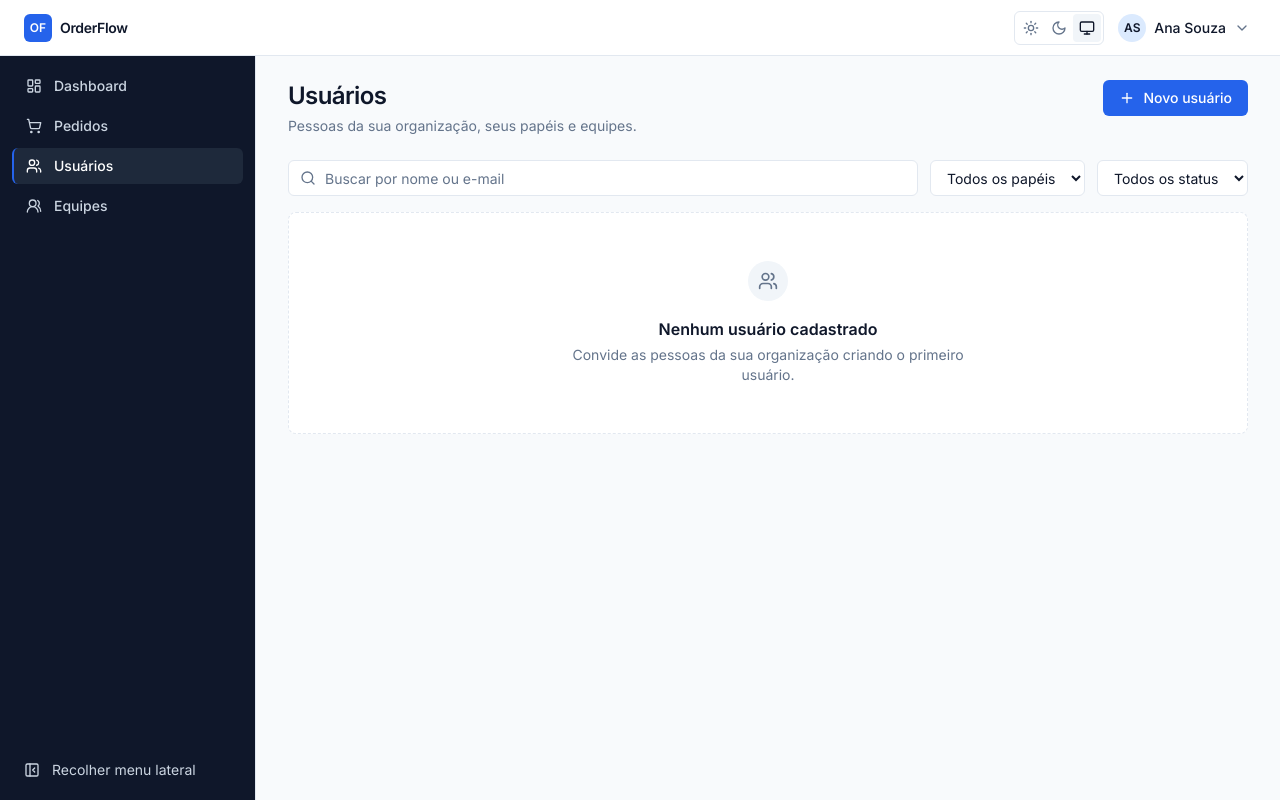
Test: UsersPage › shows an error about the hidden password field at the top of the invitation form
This screenshot has width=1280, height=800.
Click the button "Novo usuário" at (1176, 98), box [1103, 80, 1248, 116]
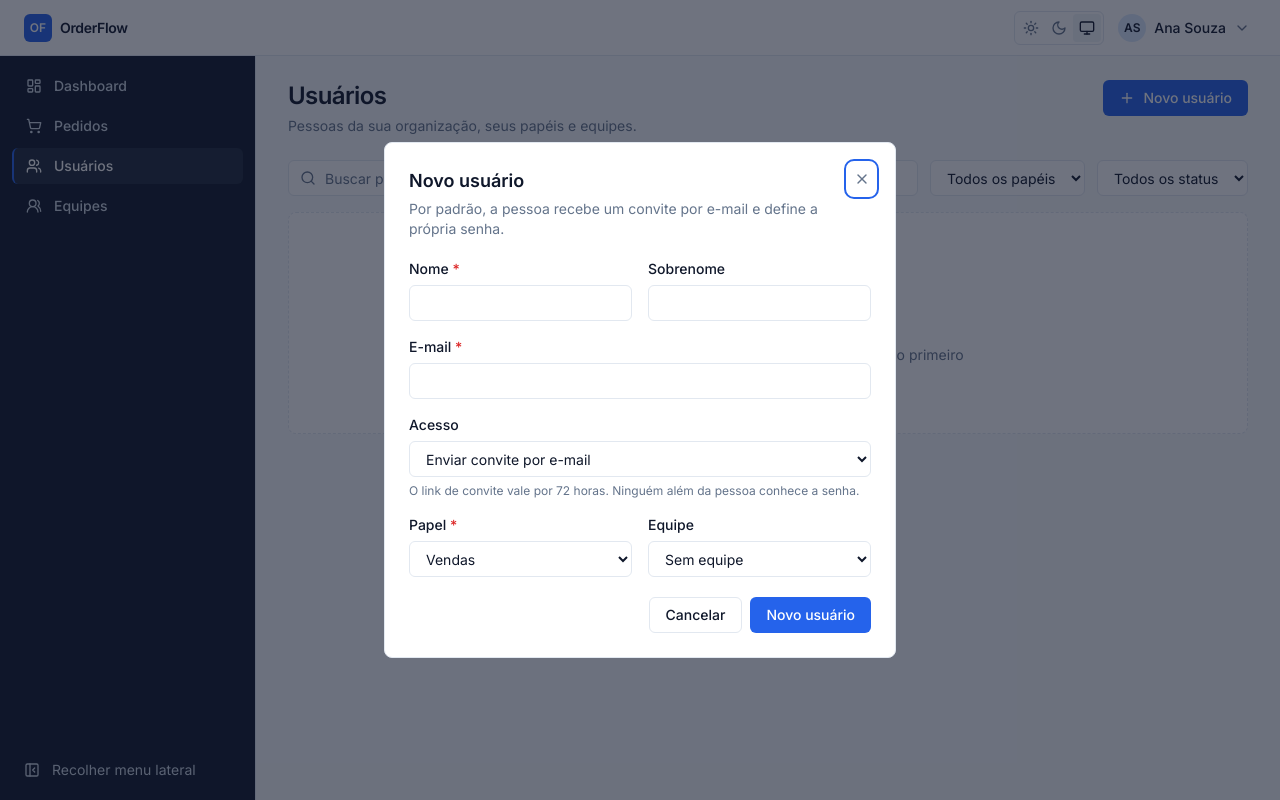
Type "Carla" into the field labelled "Nome *" at (520, 303), box [409, 285, 632, 321]
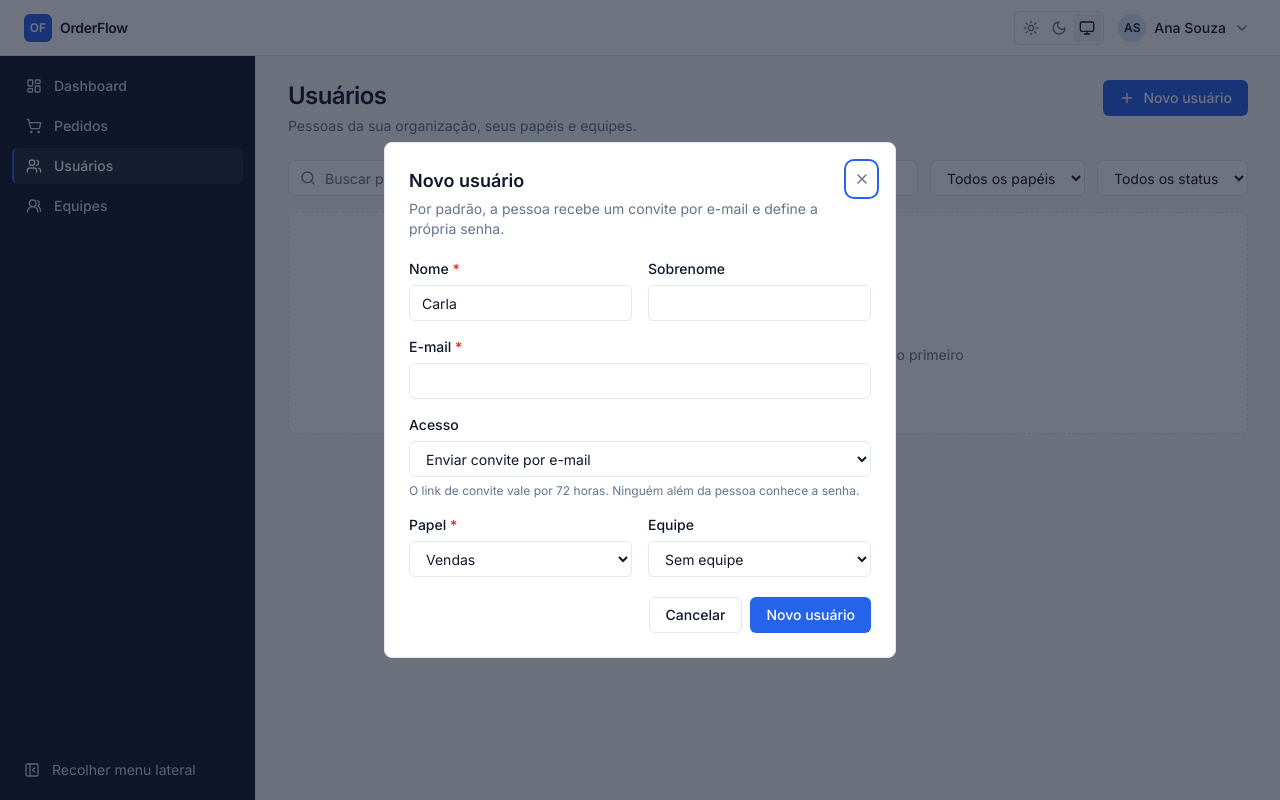
Type "carla@acme.com" into the field labelled "E-mail *" at (640, 381), box [409, 363, 871, 399]
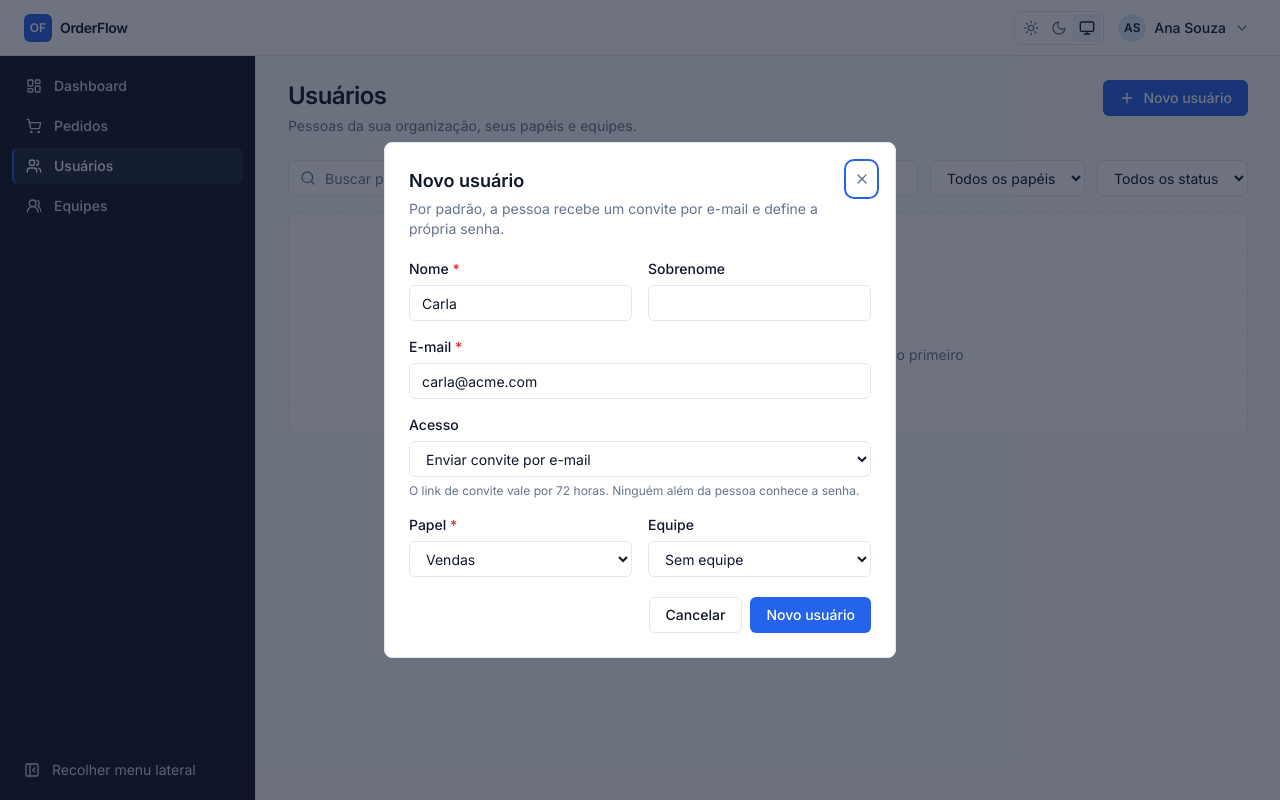
Submit the form with id "user-form", box [409, 259, 871, 577]
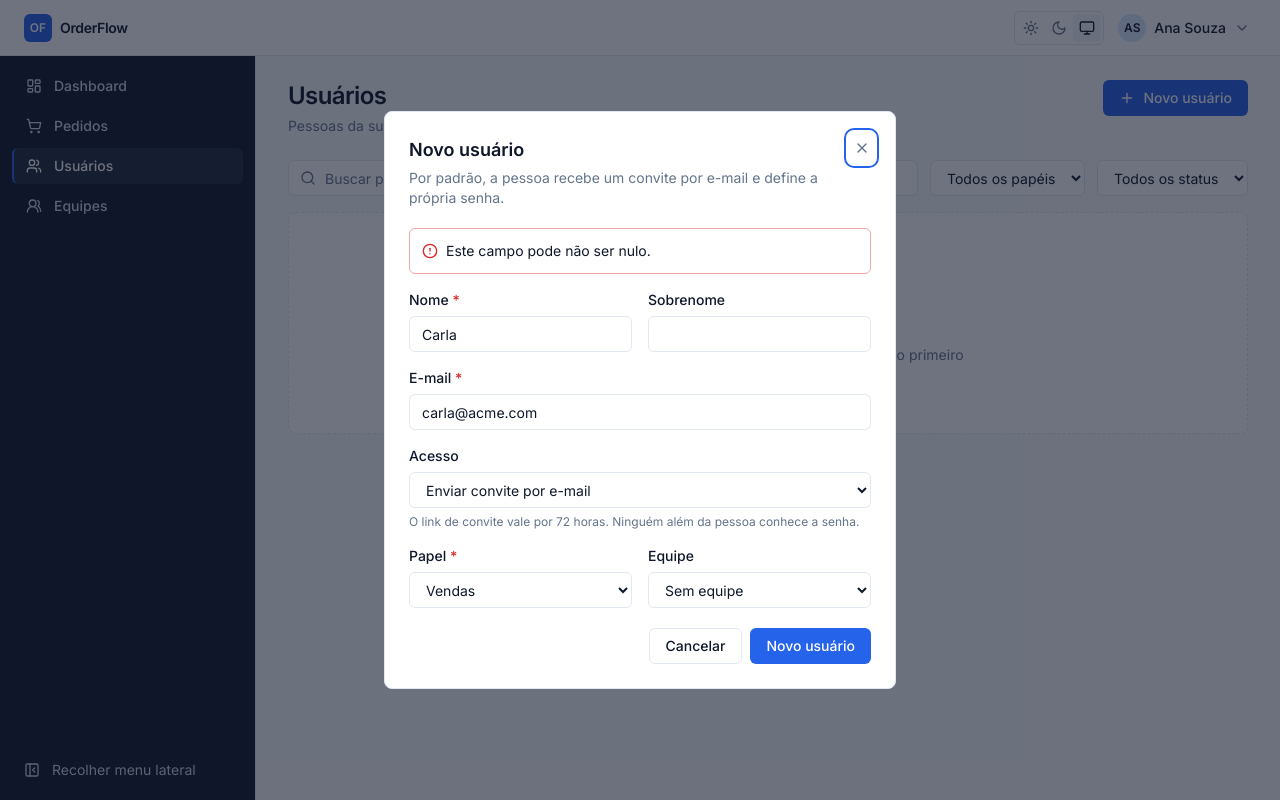
Check: the message "Este campo pode não ser nulo." is shown, box [409, 228, 871, 274]
